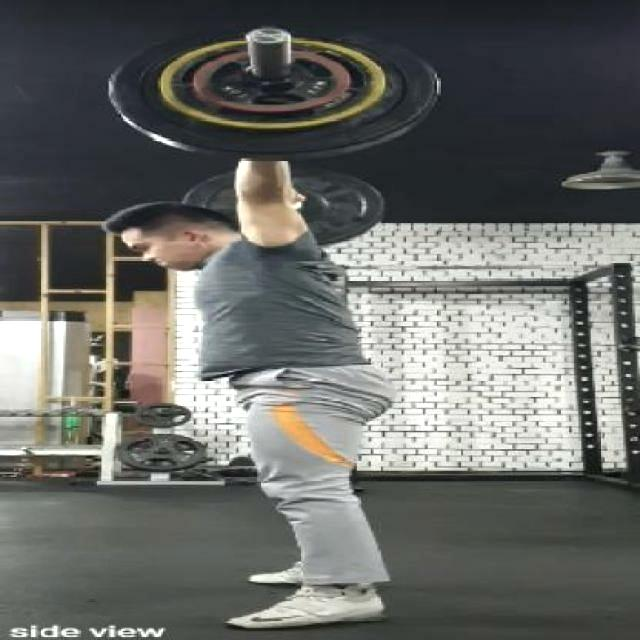barbell: (101, 25, 445, 162)
